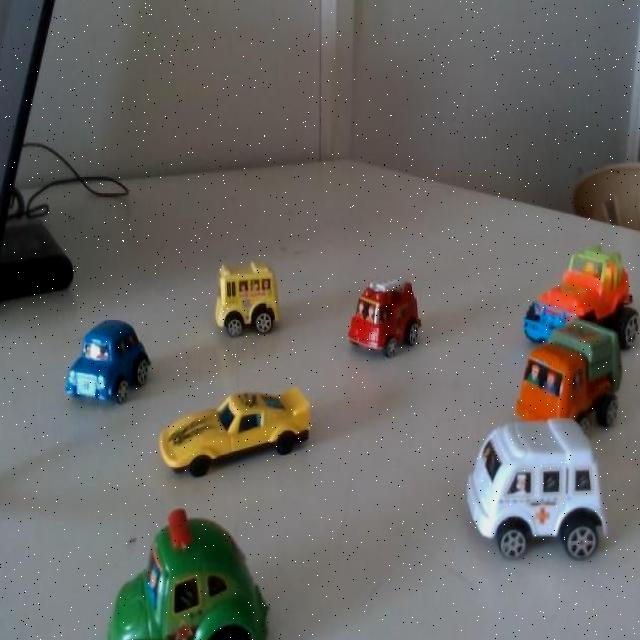car: (439, 393, 596, 589), (97, 525, 239, 640), (164, 373, 296, 493), (515, 241, 603, 353), (524, 311, 595, 436), (200, 256, 288, 356), (347, 265, 424, 378), (63, 316, 137, 412)
